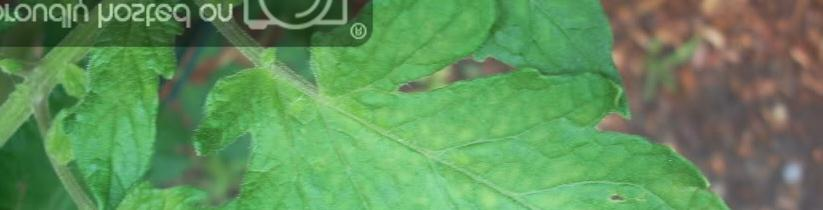Tomato mold leaf: (209, 0, 823, 210)
